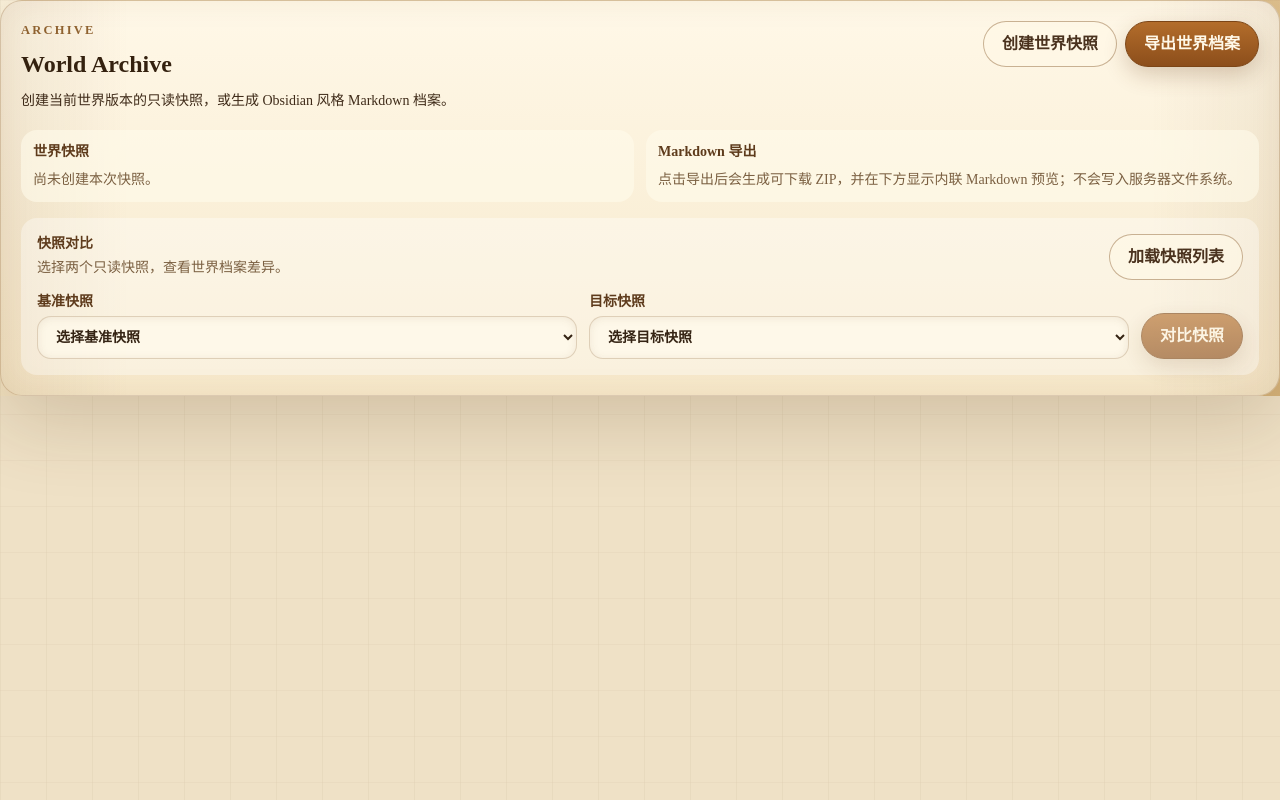
Test: WorldArchivePanel › shows snapshot error state
Step 1. Click the button "创建世界快照" → click(1050, 44), box [983,21,1117,67]
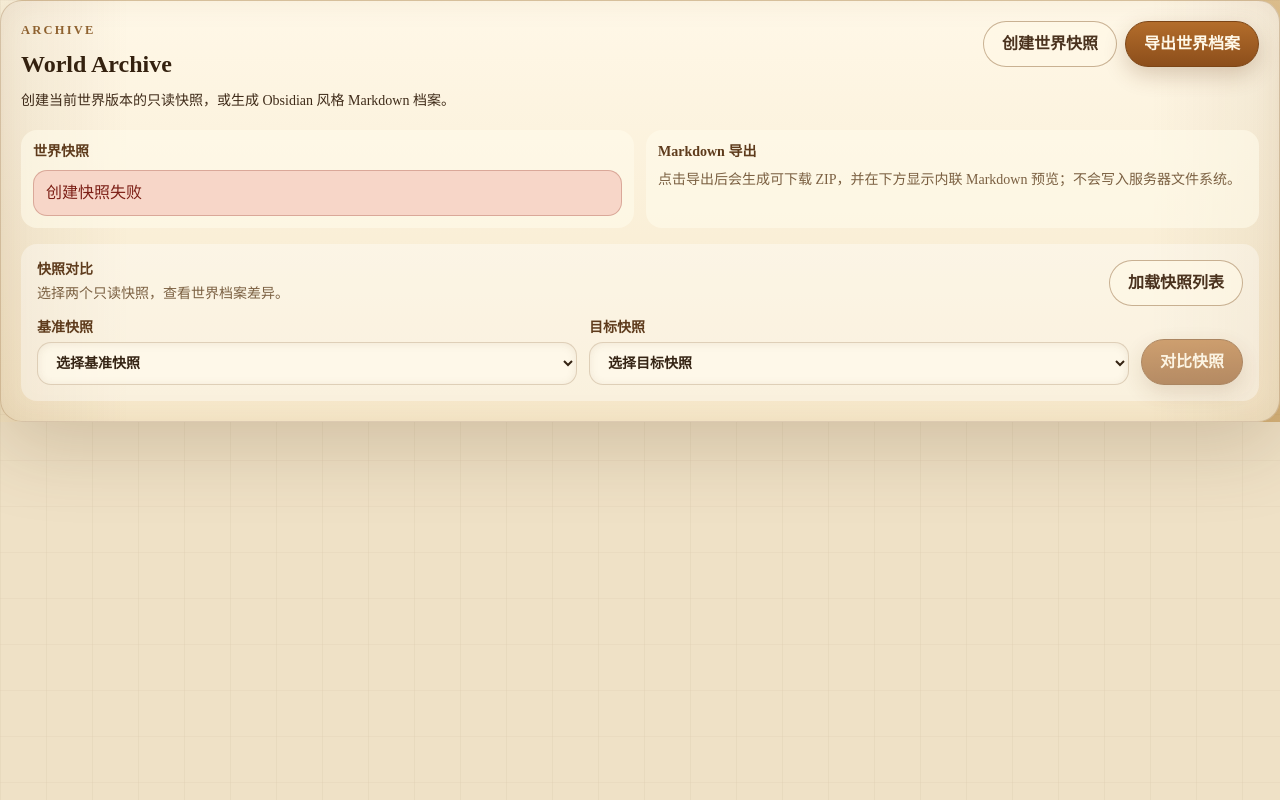
expect the message reads "创建快照失败": met, box [46,184,142,201]
